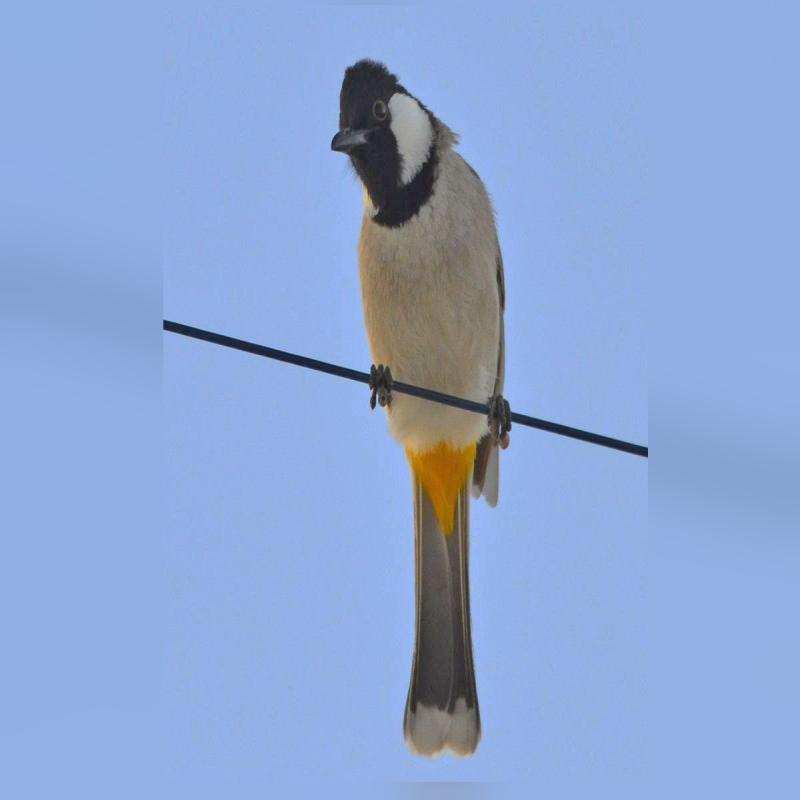white-eared bulbul: (322, 46, 542, 768)
